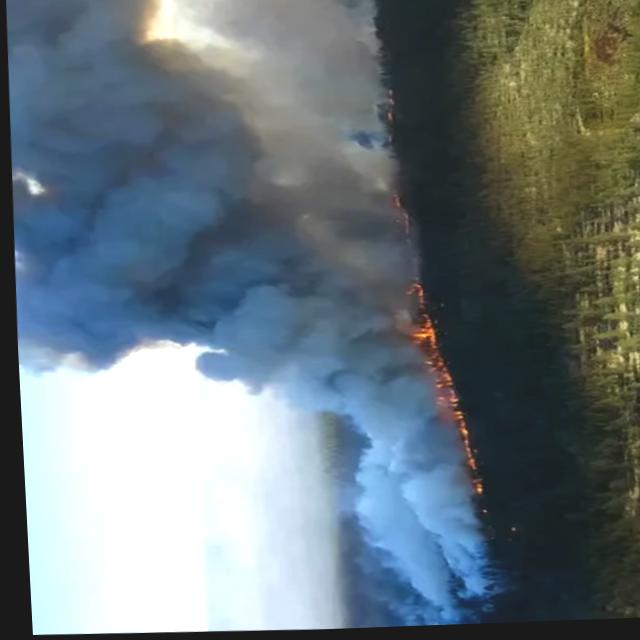Smoke: (0, 0, 495, 640)
